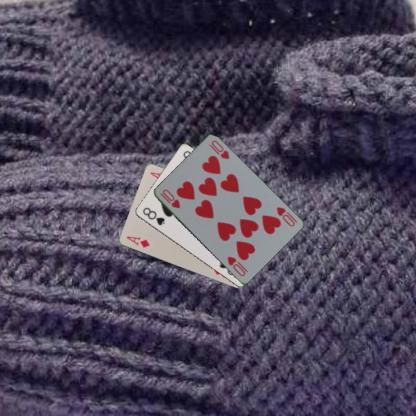10h: (157, 186, 182, 209), (273, 204, 296, 228)
8s: (140, 204, 166, 226)
Ad: (124, 233, 150, 249)
